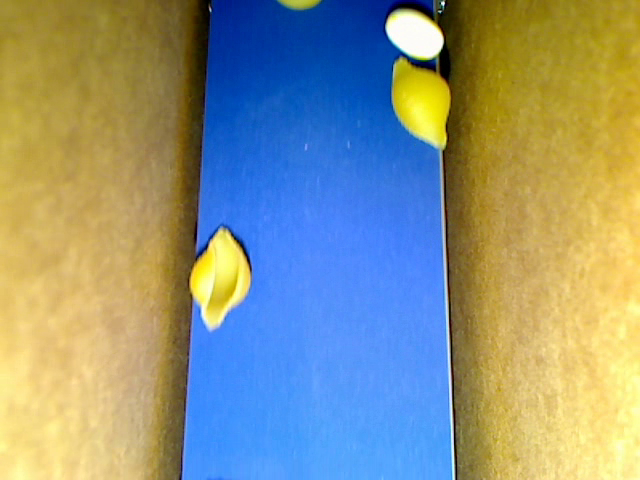shell: (189, 226, 251, 331), (391, 56, 450, 149)
